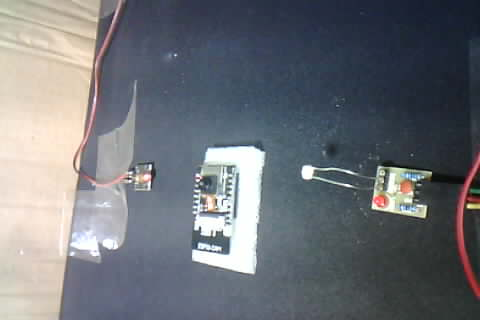esp32: (184, 141, 276, 268)
